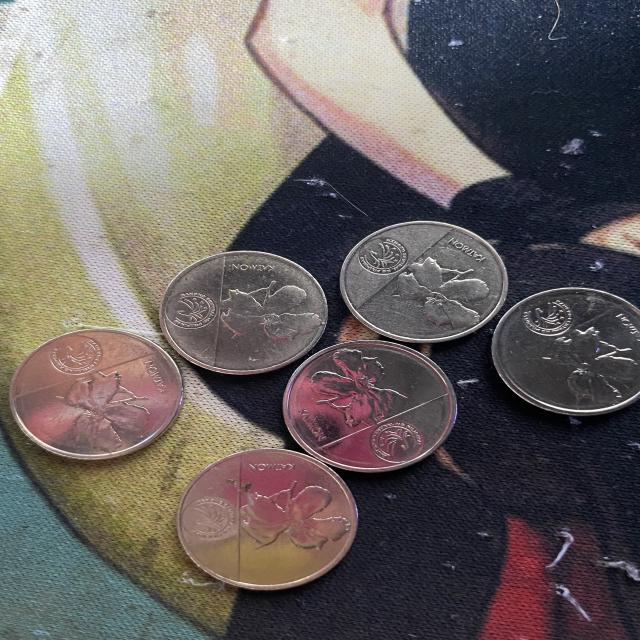25Cent_New_Back: (46, 366, 168, 457), (292, 349, 416, 436), (232, 474, 356, 561), (386, 247, 496, 341), (215, 273, 322, 368), (532, 325, 639, 410)
